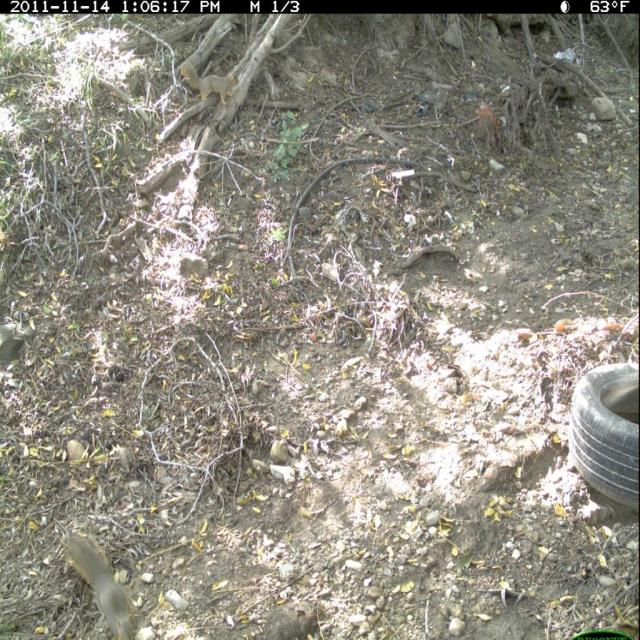squirrel: (55, 526, 155, 637)
